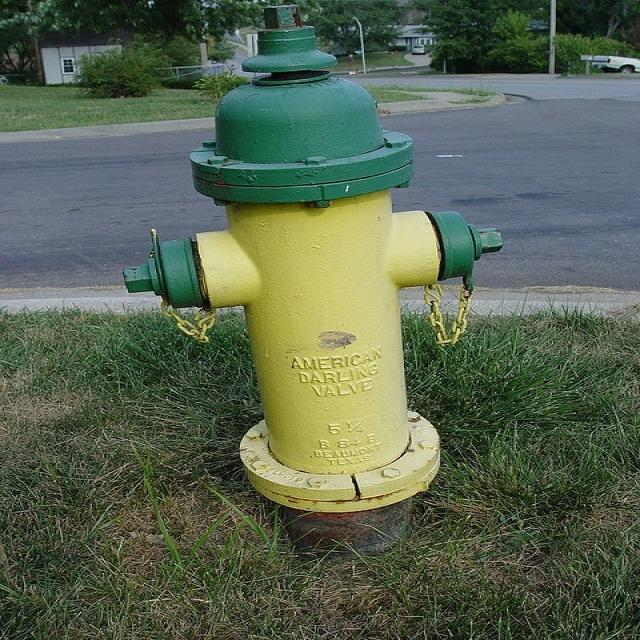fire_hydrant: (59, 0, 545, 564)
